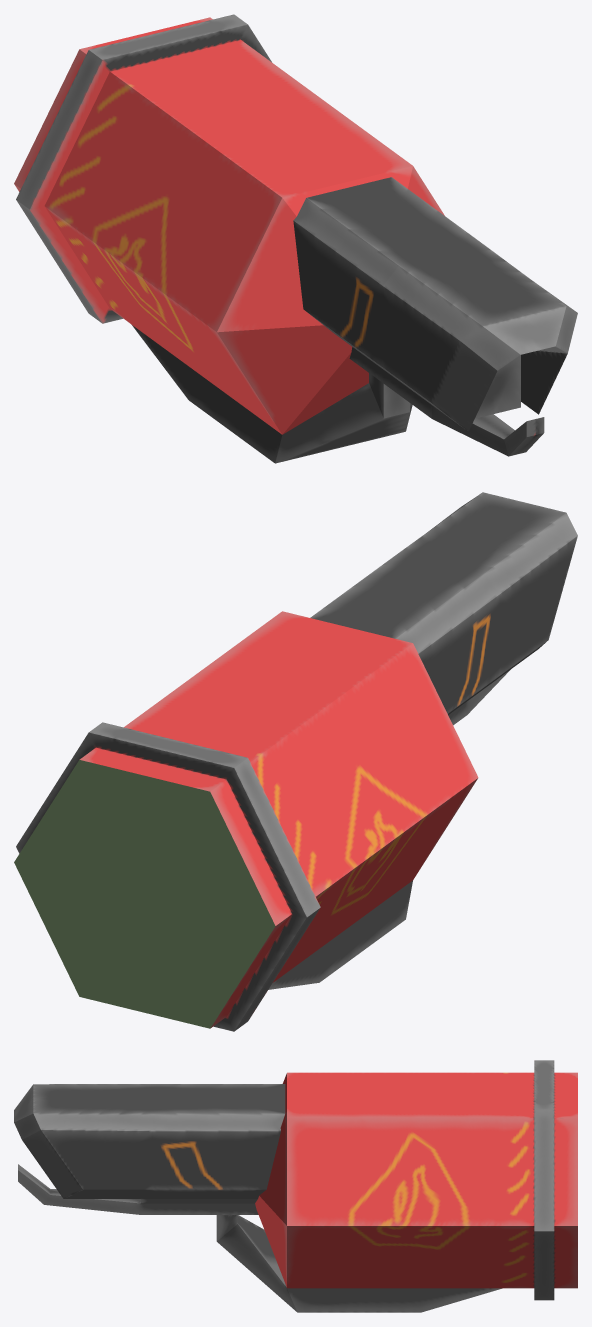
File: gun_module_fire.fbx
3 renders of one model, top to bottom at view 1: azimuth 30°, elevation 25°; view 2: azimuth 150°, elevation 25°; view 3: azimuth 270°, elevation 25°, orthographic. The views are drawn at different scales.
Visible parts, largest first — view 1: fire_module; view 2: fire_module; view 3: fire_module.
Boxes of the visible parts, left/top/right/bottom form: fire_module: left=14, top=14, right=577, bottom=463; fire_module: left=14, top=492, right=577, bottom=1031; fire_module: left=14, top=1060, right=577, bottom=1312.
Bounding box in the file's own units: 12.46 × 11.64 × 29.17.
